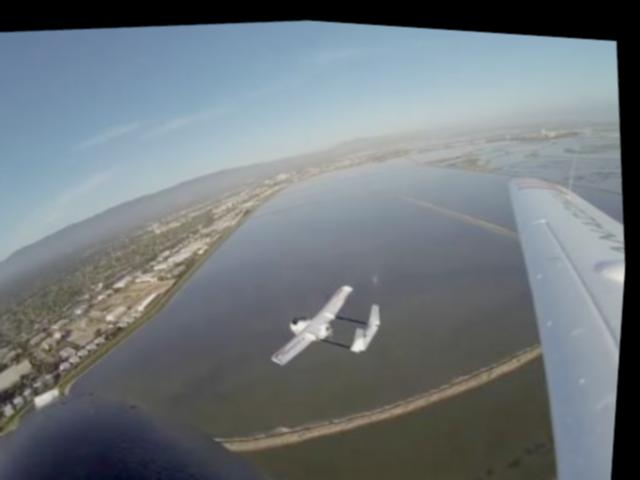uav: (266, 269, 393, 371)
